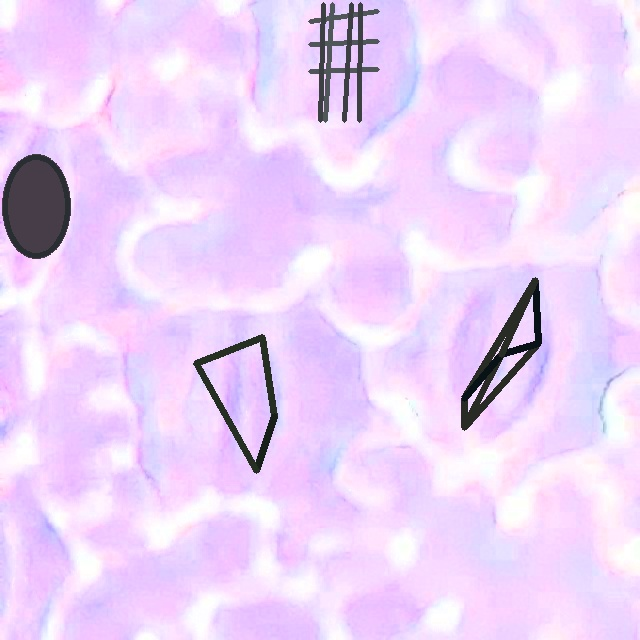close: (461, 277, 541, 430), (308, 2, 379, 122), (2, 154, 70, 259)
open: (193, 334, 277, 473)
